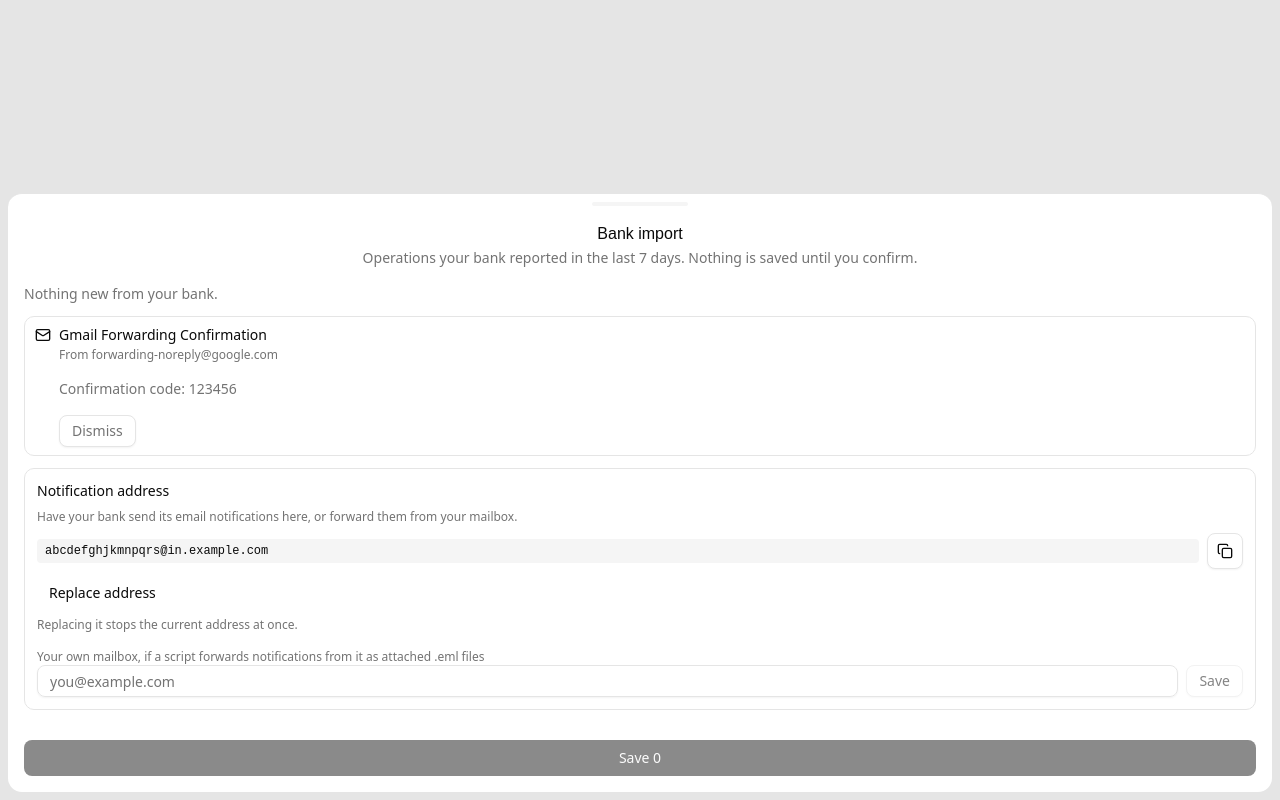
Test: BankImportDrawer › notices › shows a forwarding confirmation and dismisses it
expect the text "Gmail Forwarding Confirmation" is shown: met, box [59,325,267,344]
expect the text "Confirmation code: 123456" is shown: met, box [59,379,237,398]
Click the button "Dismiss".
click(97, 431)  # box [59,415,136,447]
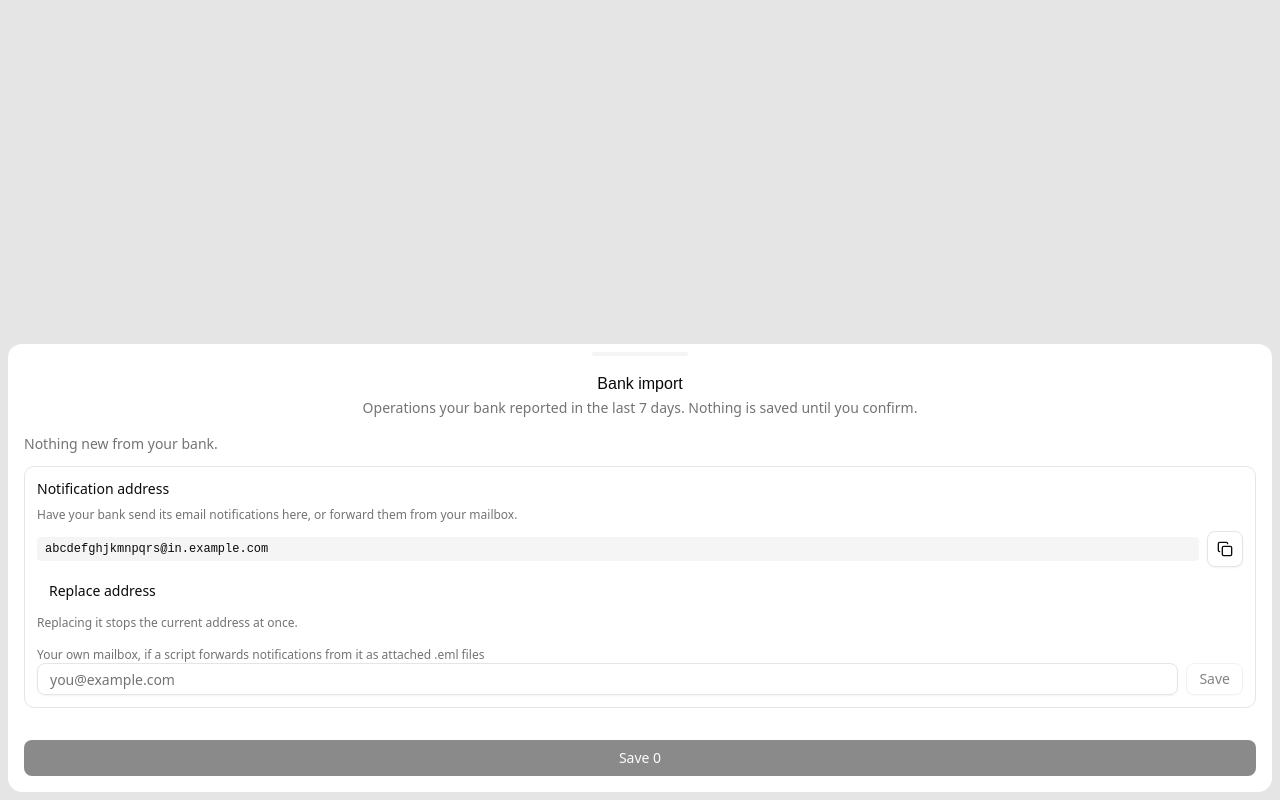
expect the text "Gmail Forwarding Confirmation" is gone: met
